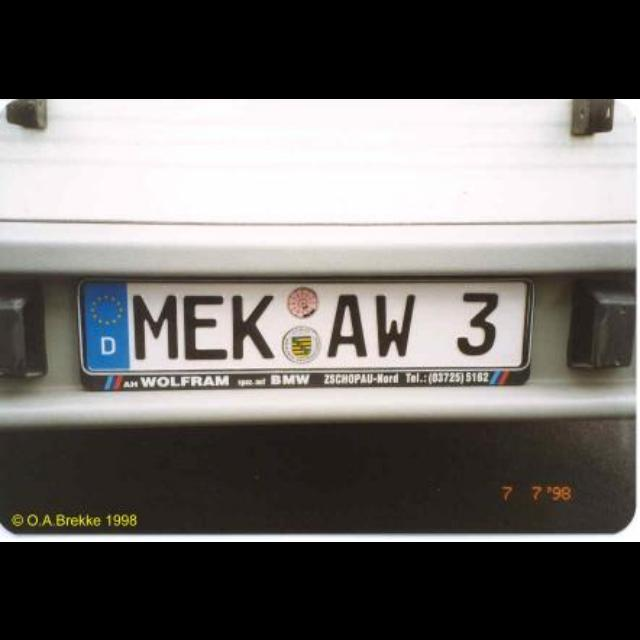d_license_plate: (78, 276, 528, 366)
